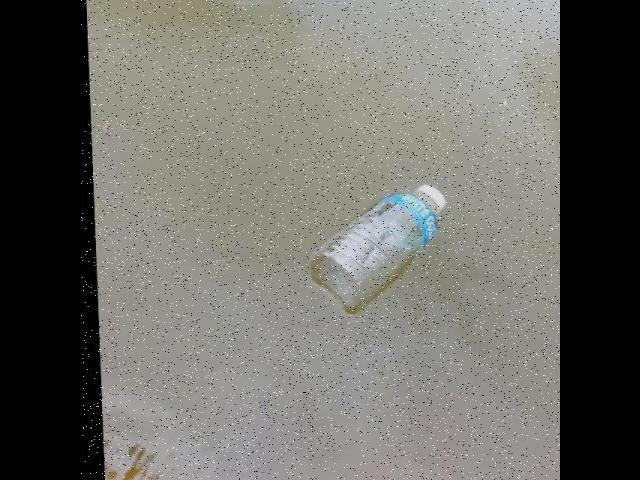Bottle: (304, 174, 452, 324)
